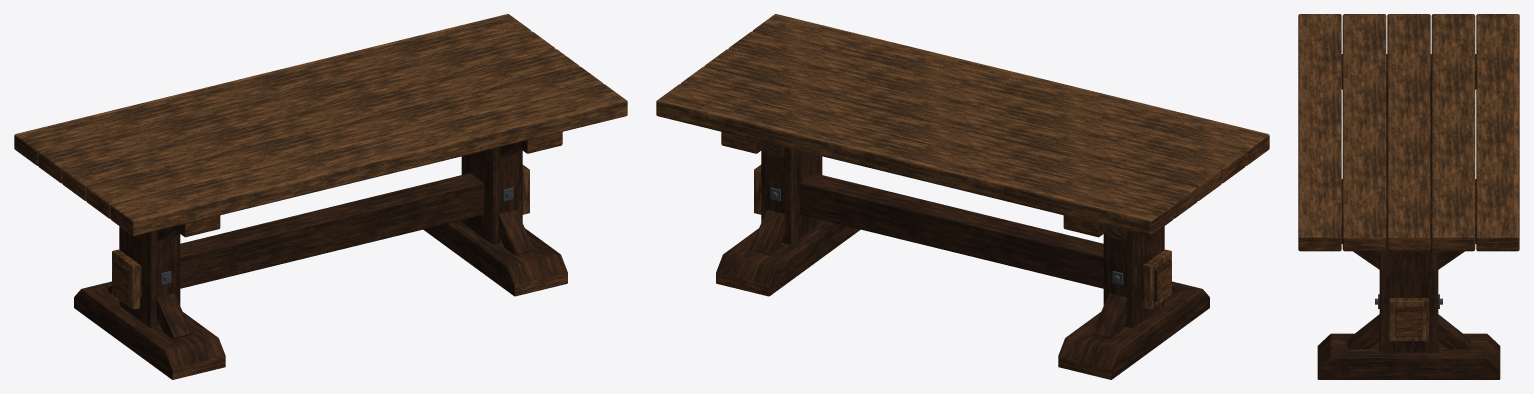
3 renders of one model, left to right at view 1: azimuth 30°, elevation 25°; view 2: azimuth 150°, elevation 25°; view 3: azimuth 270°, elevation 25°, orthographic. The views are drawn at different scales.
Parts seen in each view (by area): view 1: FT_002_top_plank_01, FT_002_low_stretcher, FT_002_top_plank_02, FT_002_top_plank_04, FT_002_top_plank_03, FT_002_top_plank_05, FT_002_foot_left, FT_002_foot_right, FT_002_upright_right, FT_002_upright_left, FT_002_foot_brace_right_front, FT_002_foot_brace_left_front (+3 smaller); view 2: FT_002_top_plank_05, FT_002_low_stretcher, FT_002_top_plank_04, FT_002_top_plank_02, FT_002_top_plank_03, FT_002_top_plank_01, FT_002_foot_left, FT_002_foot_right, FT_002_upright_right, FT_002_upright_left, FT_002_foot_brace_right_back, FT_002_foot_brace_left_back (+3 smaller); view 3: FT_002_top_plank_02, FT_002_top_plank_04, FT_002_top_plank_01, FT_002_top_plank_03, FT_002_top_plank_05, FT_002_foot_right, FT_002_upright_right, FT_002_tenon_wedge_right, FT_002_low_stretcher, FT_002_foot_brace_right_back, FT_002_foot_brace_right_front, FT_002_upright_left (+4 smaller).
Part boxes in pixels (box(x1,y1,x2,y2)): FT_002_top_plank_01: box(110, 84, 627, 236); FT_002_low_stretcher: box(112, 173, 484, 301); FT_002_top_plank_02: box(86, 66, 603, 218); FT_002_top_plank_04: box(38, 31, 555, 183); FT_002_top_plank_03: box(62, 49, 579, 200); FT_002_top_plank_05: box(14, 14, 531, 165); FT_002_foot_left: box(74, 281, 225, 379); FT_002_foot_right: box(423, 220, 567, 296); FT_002_upright_right: box(461, 147, 522, 244); FT_002_upright_left: box(119, 226, 180, 328); FT_002_foot_brace_right_front: box(498, 209, 533, 255); FT_002_foot_brace_left_front: box(156, 293, 191, 338); FT_002_top_plank_05: box(656, 84, 1173, 236); FT_002_low_stretcher: box(799, 173, 1171, 301); FT_002_top_plank_04: box(680, 66, 1197, 218); FT_002_top_plank_02: box(728, 31, 1245, 183); FT_002_top_plank_03: box(704, 49, 1221, 200); FT_002_top_plank_01: box(752, 14, 1269, 165); FT_002_foot_left: box(1058, 281, 1209, 379); FT_002_foot_right: box(716, 220, 860, 296); FT_002_upright_right: box(761, 147, 822, 244); FT_002_upright_left: box(1103, 226, 1164, 328); FT_002_foot_brace_right_back: box(750, 209, 785, 255); FT_002_foot_brace_left_back: box(1092, 293, 1127, 338); FT_002_top_plank_02: box(1342, 14, 1386, 251); FT_002_top_plank_04: box(1431, 14, 1475, 251); FT_002_top_plank_01: box(1298, 14, 1341, 251); FT_002_top_plank_03: box(1387, 14, 1430, 251); FT_002_top_plank_05: box(1476, 14, 1519, 251); FT_002_foot_right: box(1317, 333, 1500, 379); FT_002_upright_right: box(1379, 243, 1438, 352); FT_002_tenon_wedge_right: box(1389, 298, 1428, 341); FT_002_low_stretcher: box(1395, 306, 1422, 336); FT_002_foot_brace_right_back: box(1438, 314, 1470, 349); FT_002_foot_brace_right_front: box(1347, 314, 1379, 349); FT_002_upright_left: box(1386, 89, 1431, 197).
Bounding box in the file's own units: 2.2 × 0.76 × 0.92.
4 materials, 3 textured.
